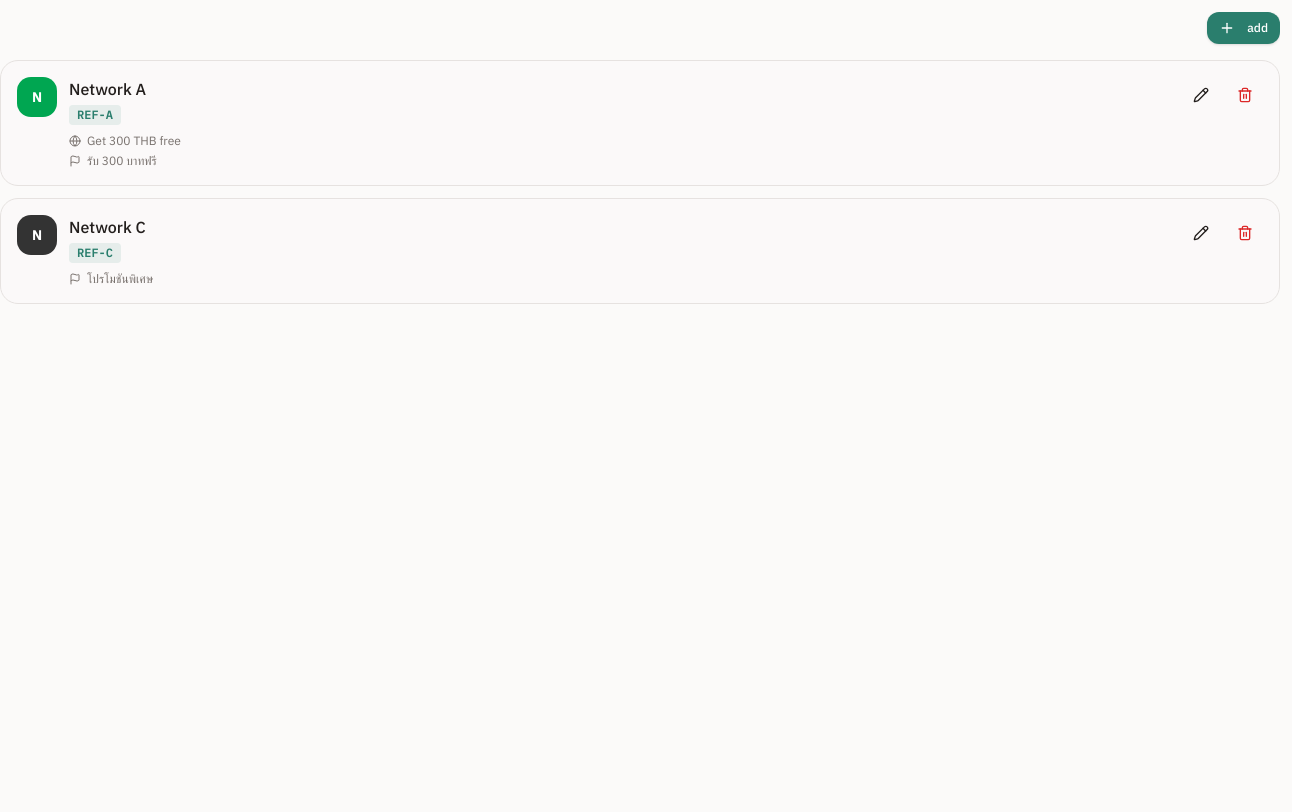
it: ReferralCodesTable › opens form when add is clicked
This screenshot has width=1292, height=812.
Click the button "add" at (1244, 28), box [1207,12,1280,44]
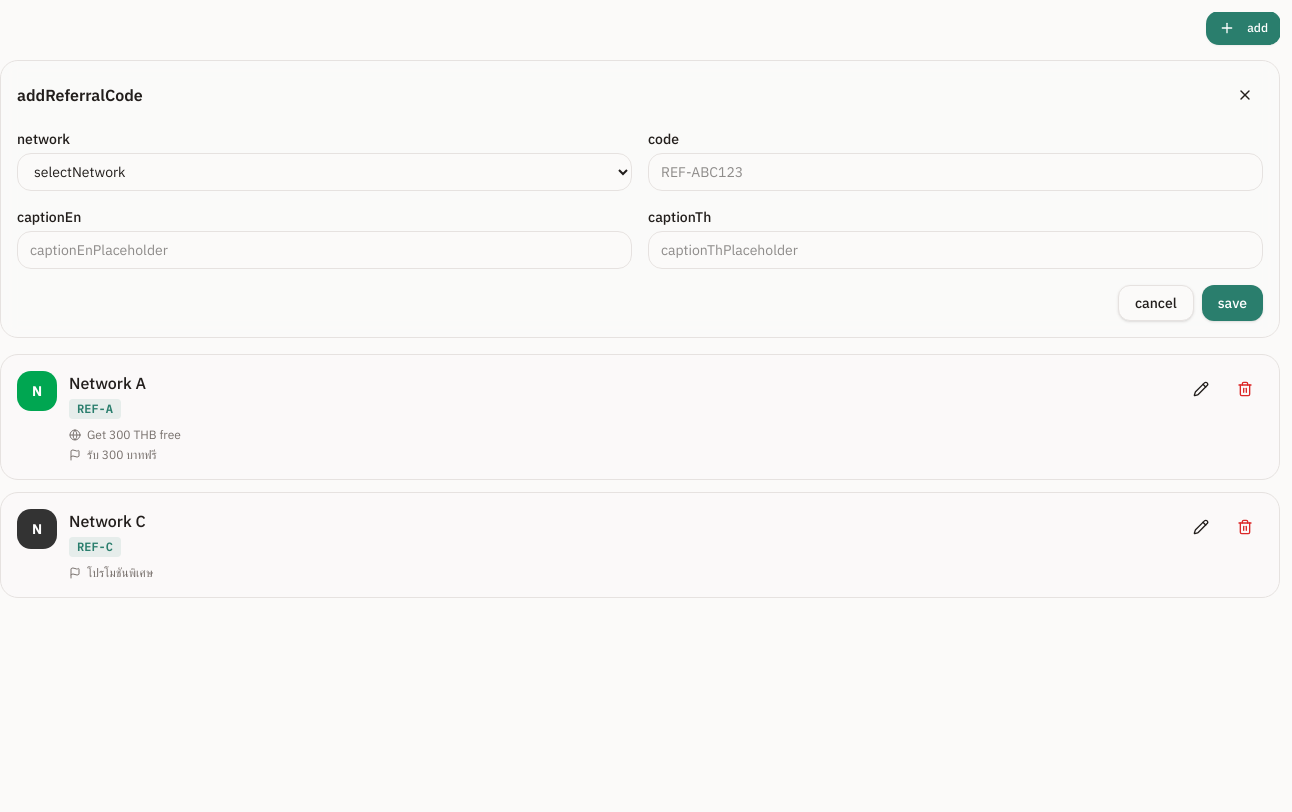
Expected: the heading "addReferralCode" is shown, [17,83,143,107]
